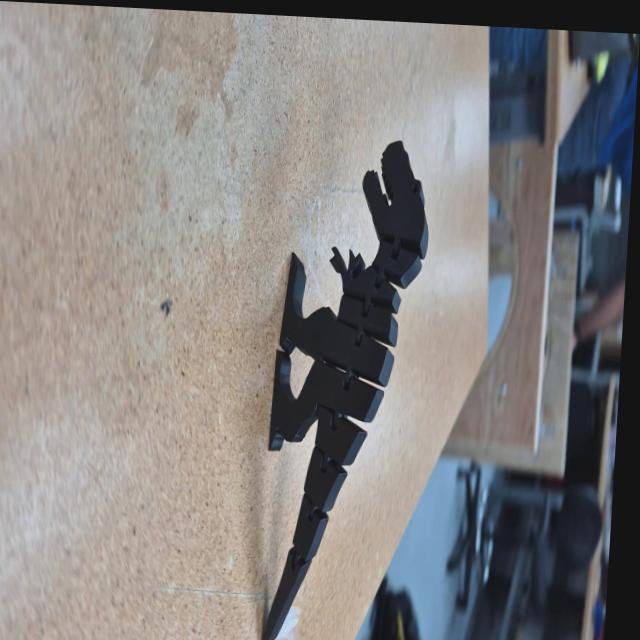dino: (256, 132, 435, 640)
